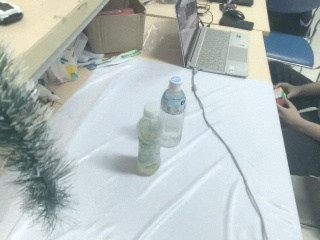bottle: (158, 75, 189, 149), (135, 103, 163, 177)
box: (84, 1, 146, 57)
toy_car: (1, 1, 24, 28)
